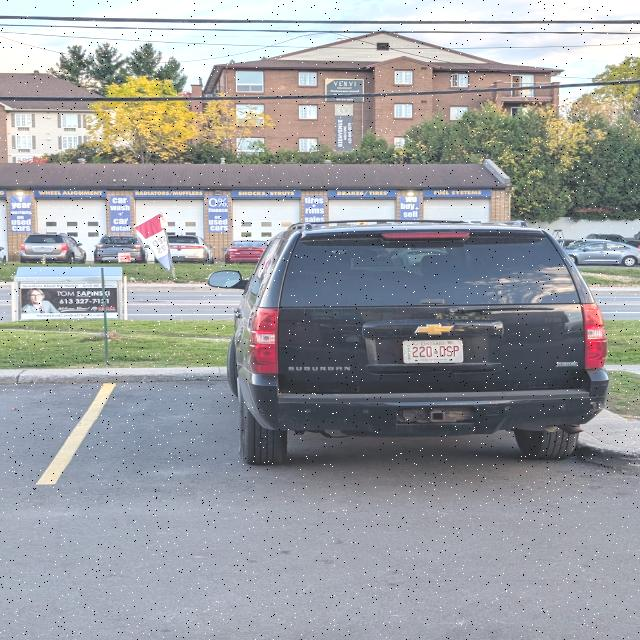plaque: (403, 339, 463, 364)
